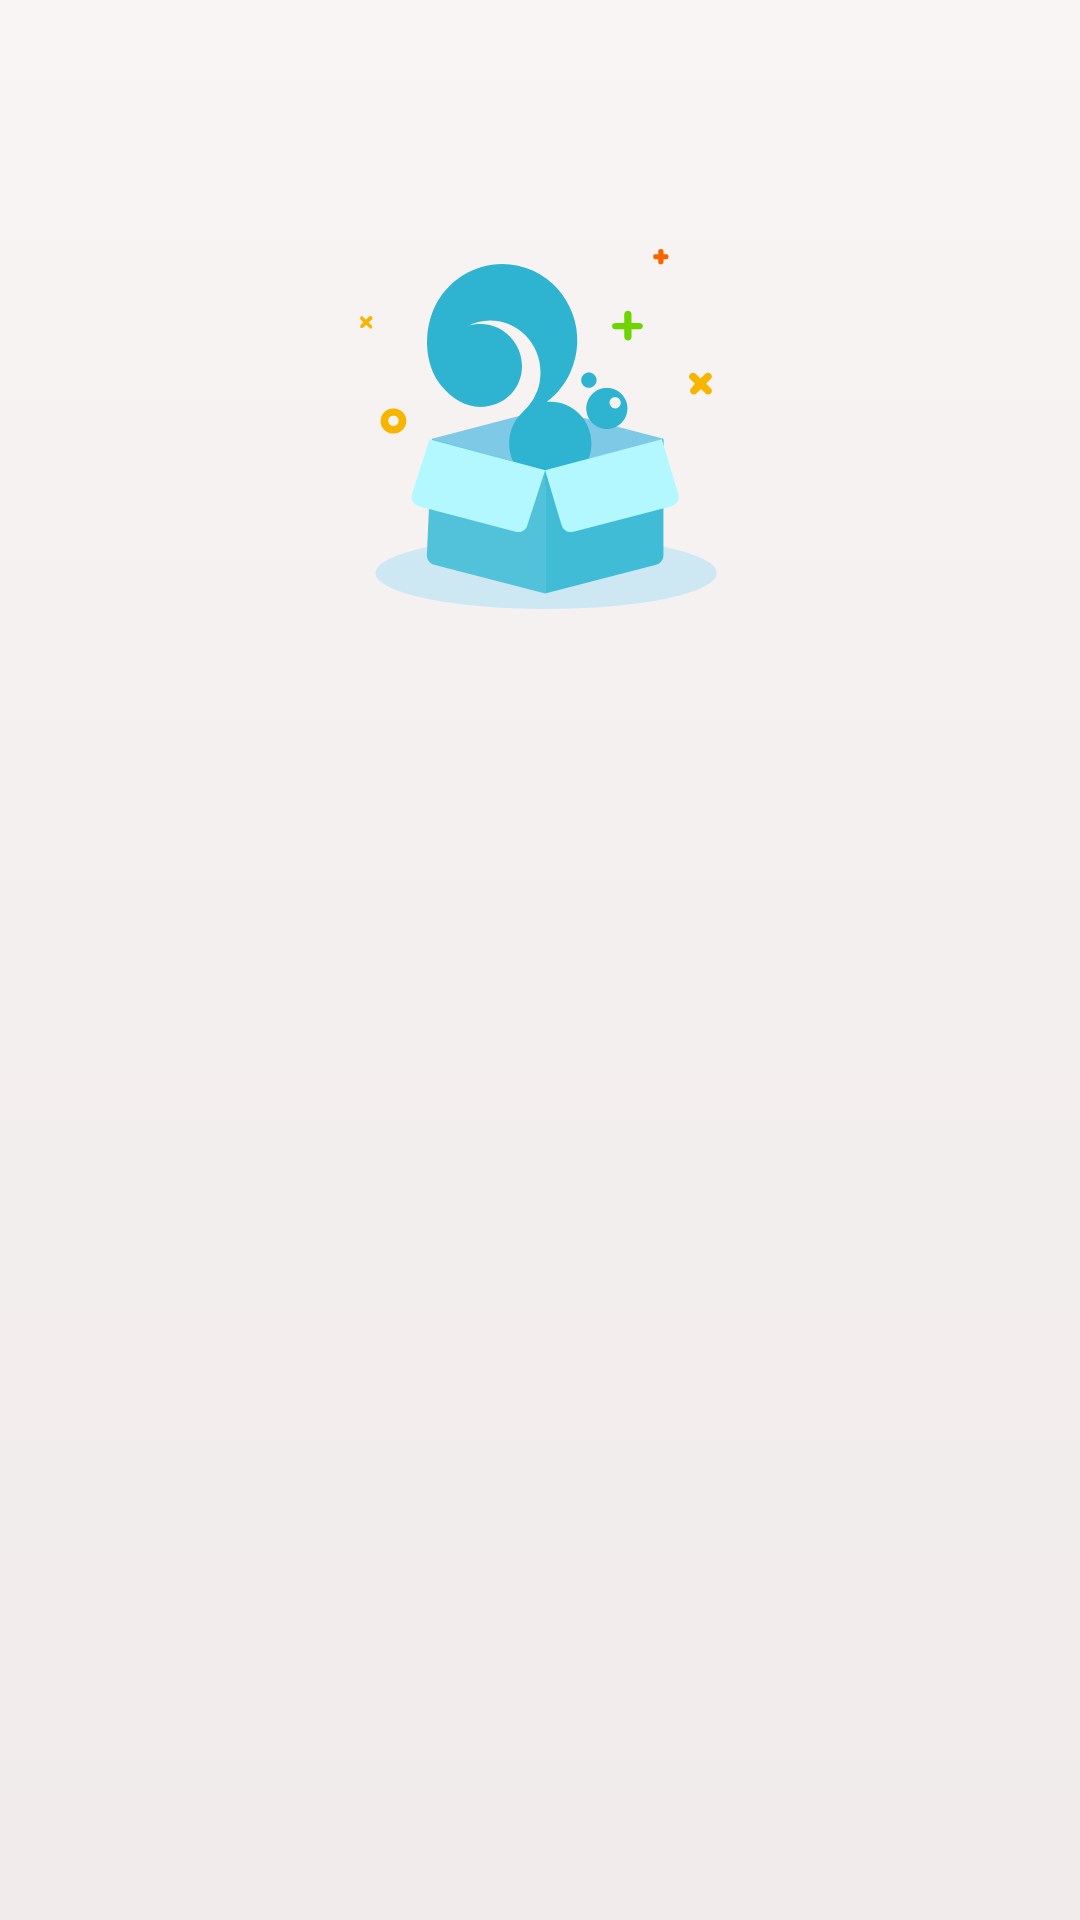

Icons on this 1080*1920 Android screen, each with the point to tap as point (x, y):
blank: point (538, 429)
